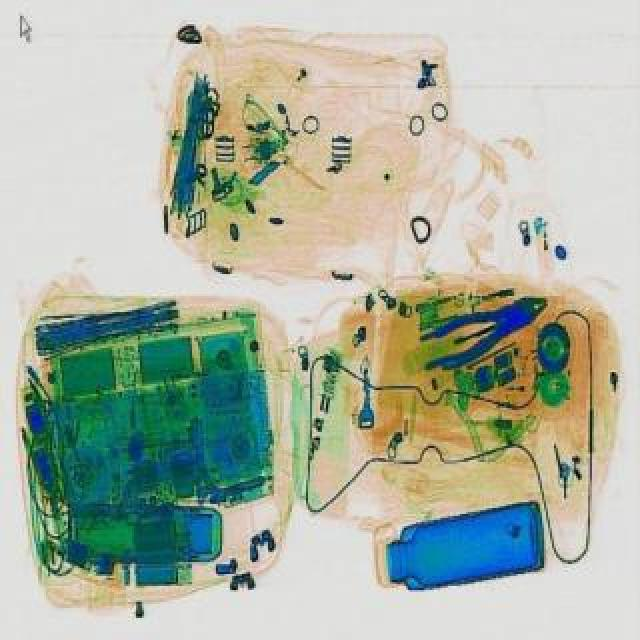wrench: (424, 280, 556, 372)
